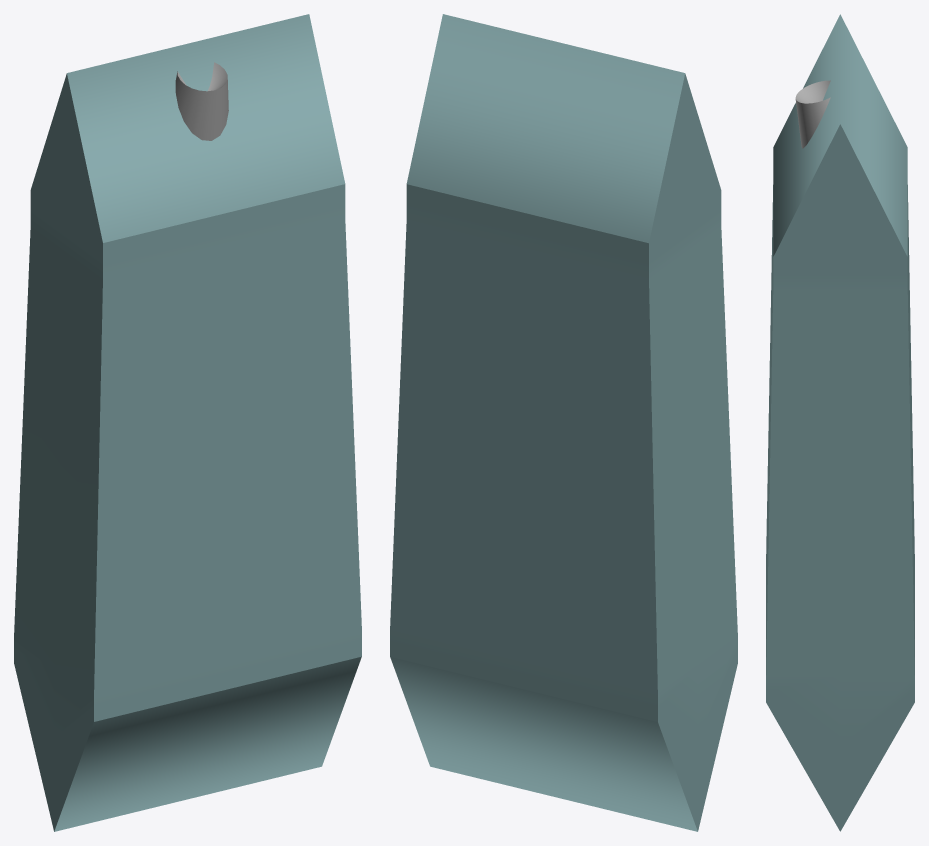
File: Food Pouch Rations Final.fbx
3 renders of one model, left to right at view 1: azimuth 30°, elevation 25°; view 2: azimuth 150°, elevation 25°; view 3: azimuth 270°, elevation 25°, orthographic. The views are drawn at different scales.
Parts seen in each view (by area): view 1: pCube1, pCylinder1; view 2: pCube1; view 3: pCube1, pCylinder1.
Part boxes in pixels (box(x1,y1,x2,y2)): pCube1: box(14, 14, 361, 831); pCylinder1: box(175, 62, 228, 140); pCube1: box(390, 14, 737, 831); pCube1: box(766, 14, 914, 831); pCylinder1: box(795, 80, 830, 148).
Bounding box in the file's own units: 0.5927 × 1.6 × 0.3066.
